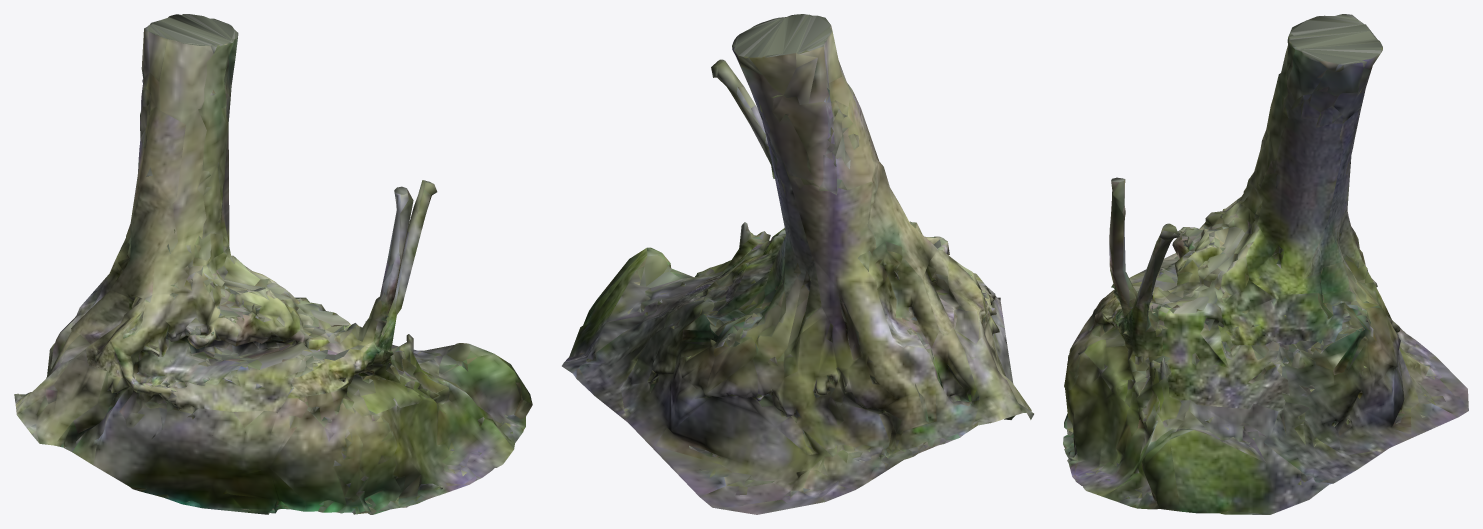
File: root-rock.lod0.glb
The picture shows the model from 3 angles, left to right: view 1: azimuth 30°, elevation 25°; view 2: azimuth 150°, elevation 25°; view 3: azimuth 270°, elevation 25°; orthographic projection. The views are drawn at different scales.
Parts seen in each view (by area): view 1: Object_2; view 2: Object_2; view 3: Object_2.
Boxes of the visible parts, x1,y1,x2,y2 form: Object_2: (14, 14, 532, 514); Object_2: (562, 14, 1033, 514); Object_2: (1063, 14, 1468, 514).
Size of the model in its own units: 16 by 13.49 by 12.86.
Materials: 1 (1 with a texture image).
